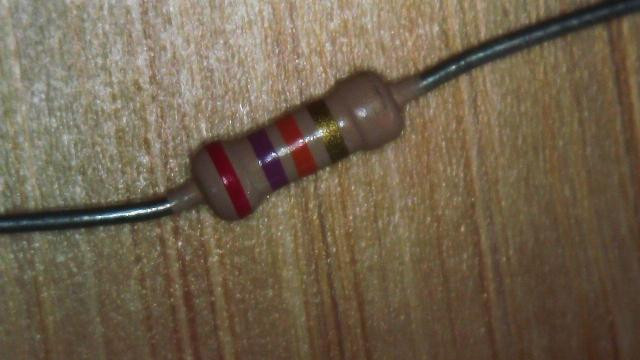gold: (308, 98, 349, 161)
orange: (274, 113, 318, 176)
red: (206, 142, 251, 218)
resistor: (140, 33, 442, 252)
violet: (248, 128, 288, 190)
